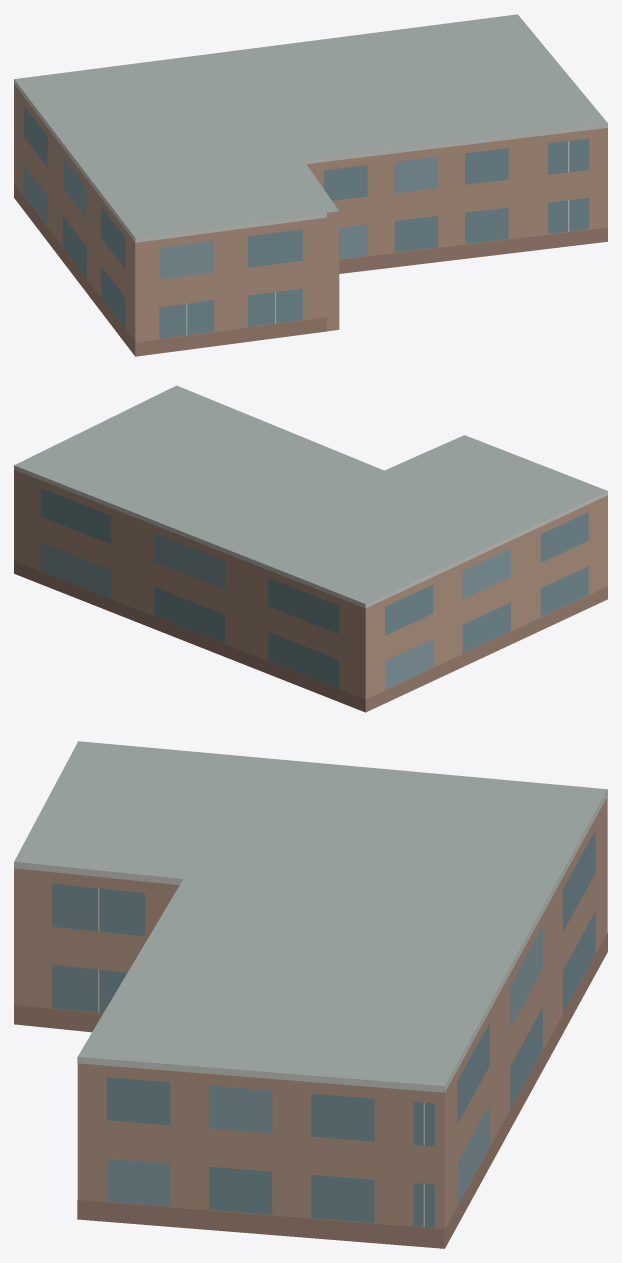
File: survey-upis-32497340.glb
The picture shows the model from 3 angles, top to bottom: view 1: azimuth 30°, elevation 25°; view 2: azimuth 150°, elevation 25°; view 3: azimuth 270°, elevation 25°; orthographic projection. The views are drawn at different scales.
Visible parts, largest first — view 1: survey-upis-32497340.tmp; view 2: survey-upis-32497340.tmp; view 3: survey-upis-32497340.tmp.
Part boxes in pixels (bbox=[...]): survey-upis-32497340.tmp: bbox=[14, 14, 607, 356]; survey-upis-32497340.tmp: bbox=[14, 385, 607, 712]; survey-upis-32497340.tmp: bbox=[14, 741, 607, 1248].
Size of the model in its own units: 27.79 by 6.1 by 20.21.
